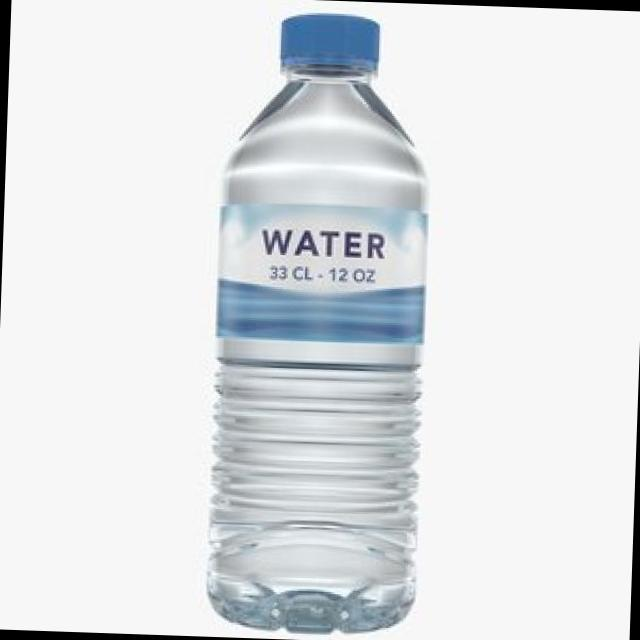plastic_bottle: (203, 10, 437, 638)
